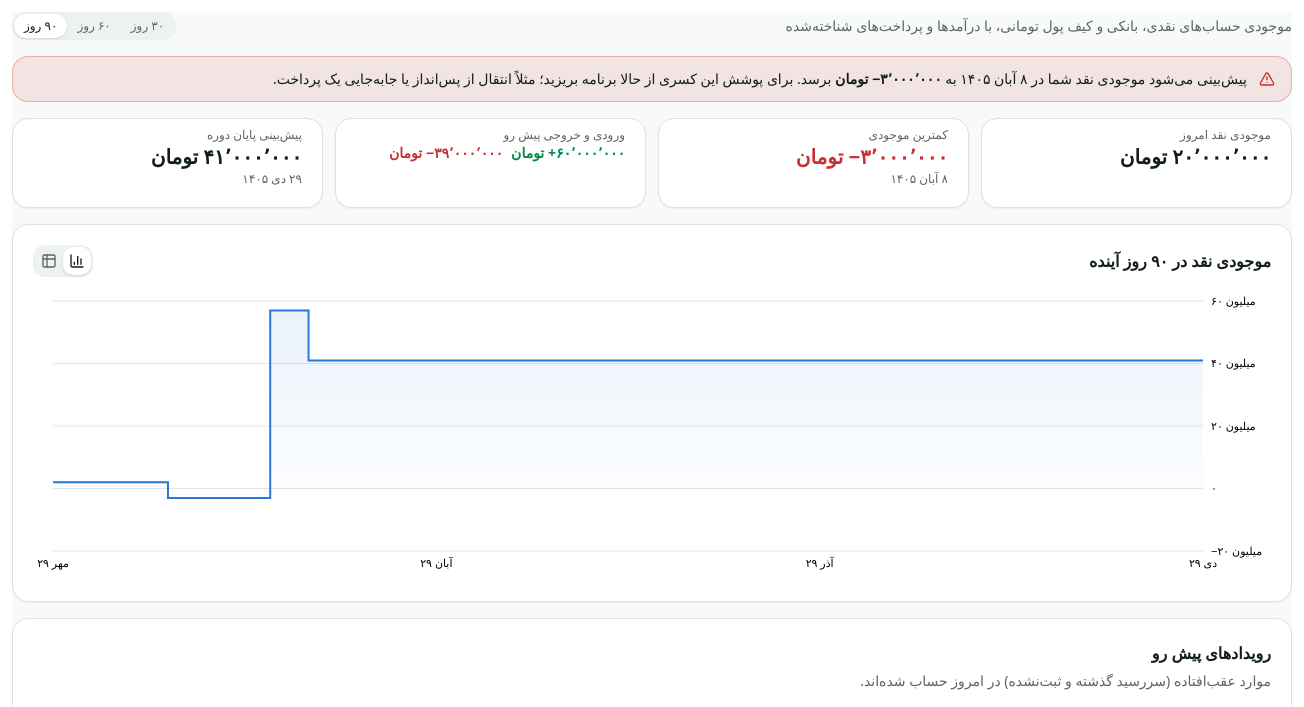
Test case: ForecastPanel › has a table view with the change on each day
This screenshot has width=1304, height=707.
Expected: the message is shown, top-left (12, 56), bottom-right (1292, 102)
Click the radio button named "نمایش جدول": [49, 261] box top-left (35, 247), bottom-right (63, 275)
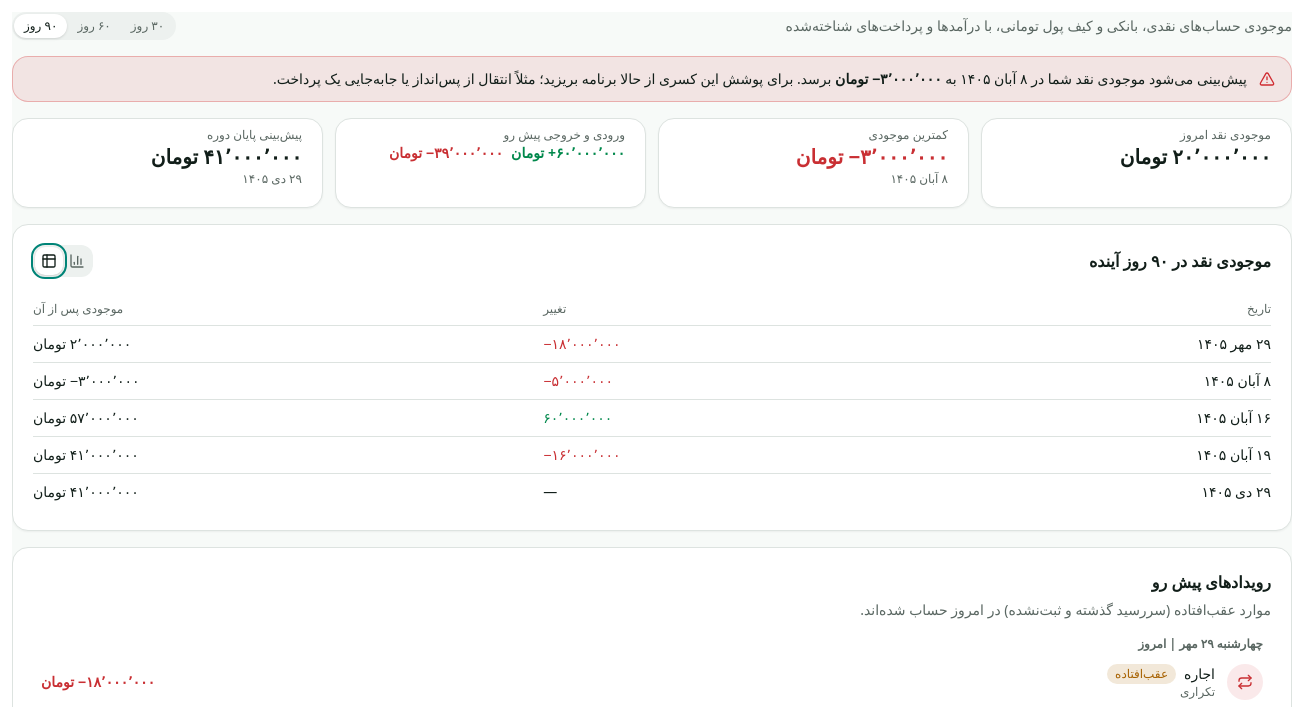
Expected: the row "۲۹ مهر ۱۴۰۵ −۱۸٬۰۰۰٬۰۰۰ ۲٬۰۰۰٬۰۰۰ تومان" is shown, top-left (543, 334), bottom-right (620, 353)
Expected: the row "۱۶ آبان ۱۴۰۵ ۶۰٬۰۰۰٬۰۰۰ ۵۷٬۰۰۰٬۰۰۰ تومان" is shown, top-left (33, 400), bottom-right (1271, 436)
Expected: the row "۲۹ دی ۱۴۰۵ — ۴۱٬۰۰۰٬۰۰۰ تومان" is shown, top-left (33, 474), bottom-right (1271, 510)
